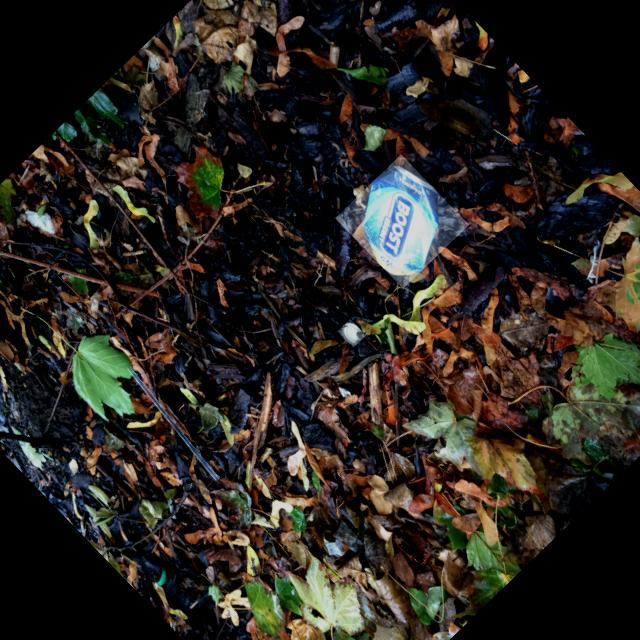Bottle cap: (342, 322, 362, 345)
Drink can: (363, 165, 440, 275)
Straw: (128, 366, 220, 481)
